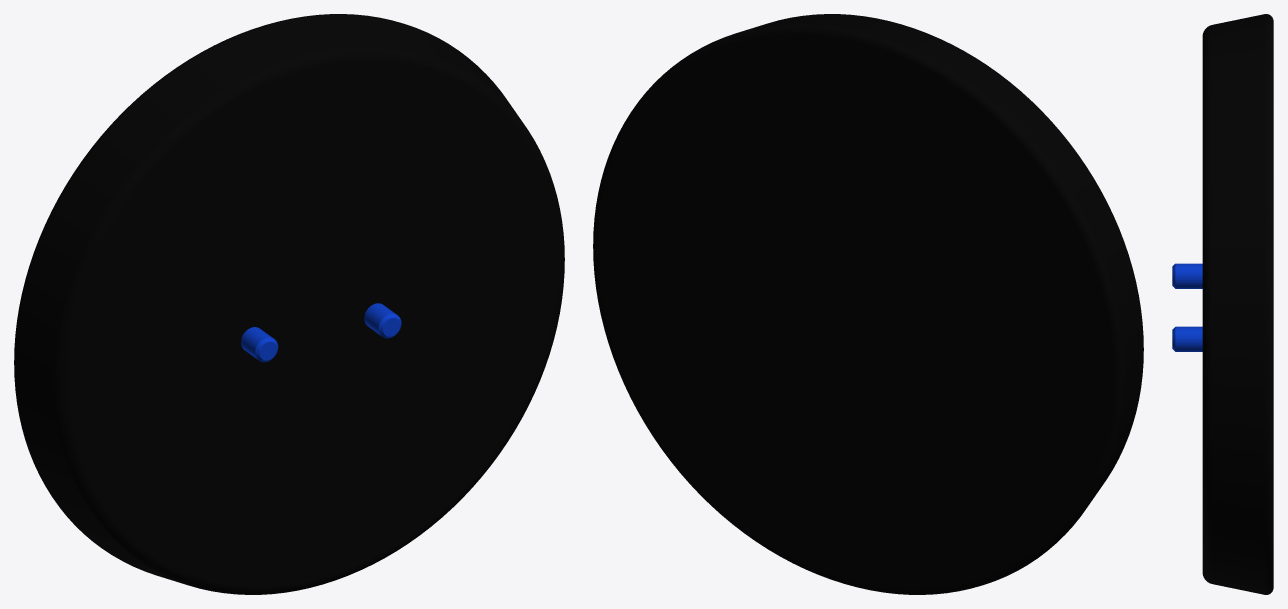
Rendered from IgG_part1_base.obj.
The picture shows the model from 3 angles, left to right: view 1: azimuth 30°, elevation 25°; view 2: azimuth 150°, elevation 25°; view 3: azimuth 270°, elevation 25°; orthographic projection. The views are drawn at different scales.
Parts seen in each view (by area): view 1: IgG_part1_base; view 2: IgG_part1_base; view 3: IgG_part1_base.
Boxes of the visible parts, x1=… form: IgG_part1_base: x1=14, y1=14, x2=564, y2=594; IgG_part1_base: x1=593, y1=14, x2=1143, y2=594; IgG_part1_base: x1=1172, y1=14, x2=1273, y2=594.
Bounding box in the file's own units: 115 × 115 × 20.09.
